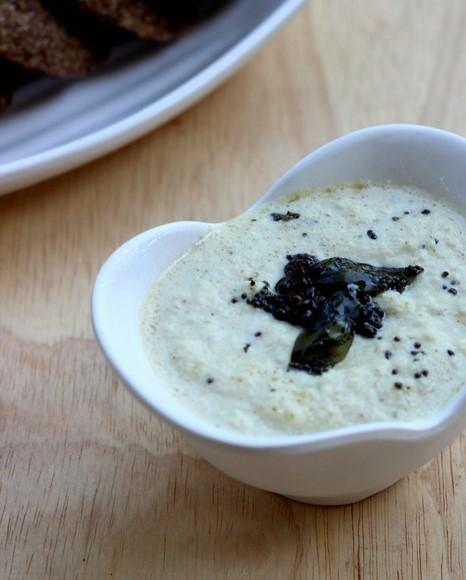CoconutChutney: (149, 182, 466, 434)
